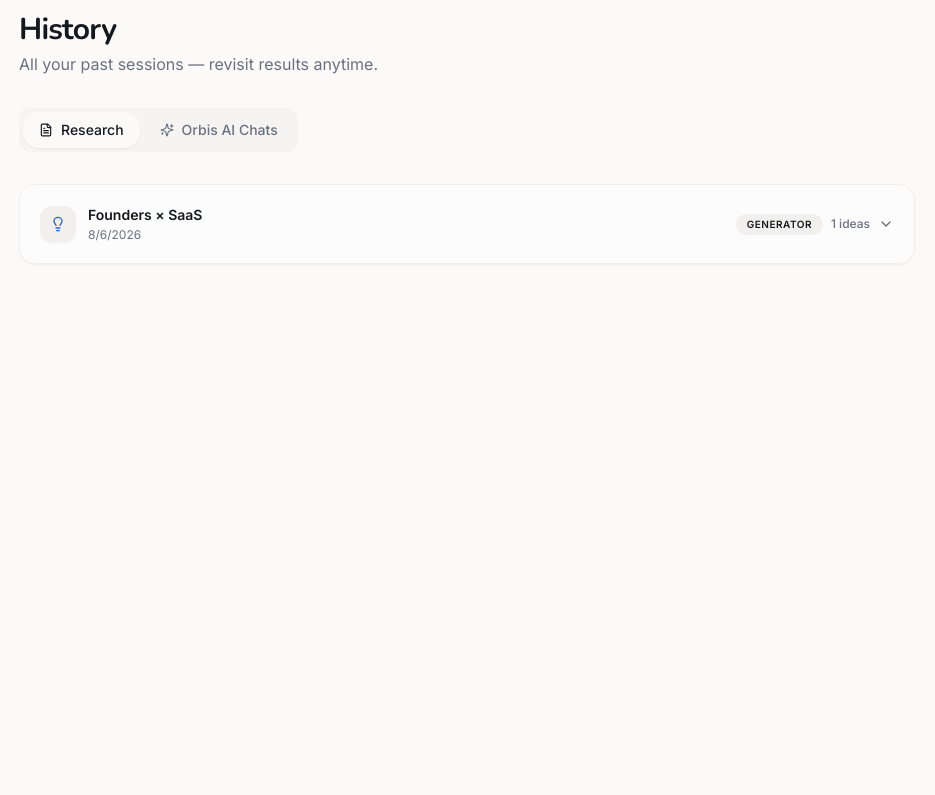
Test: Reports history idea_saved analytics › emits history_generator after successful save
The width and height of the screenshot is (935, 795).
Later steps or results of the test are not shown.
Click the button "Founders × SaaS 8/6/2026 Generator 1 ideas" at coordinates (58, 224), box [20,185,914,263]
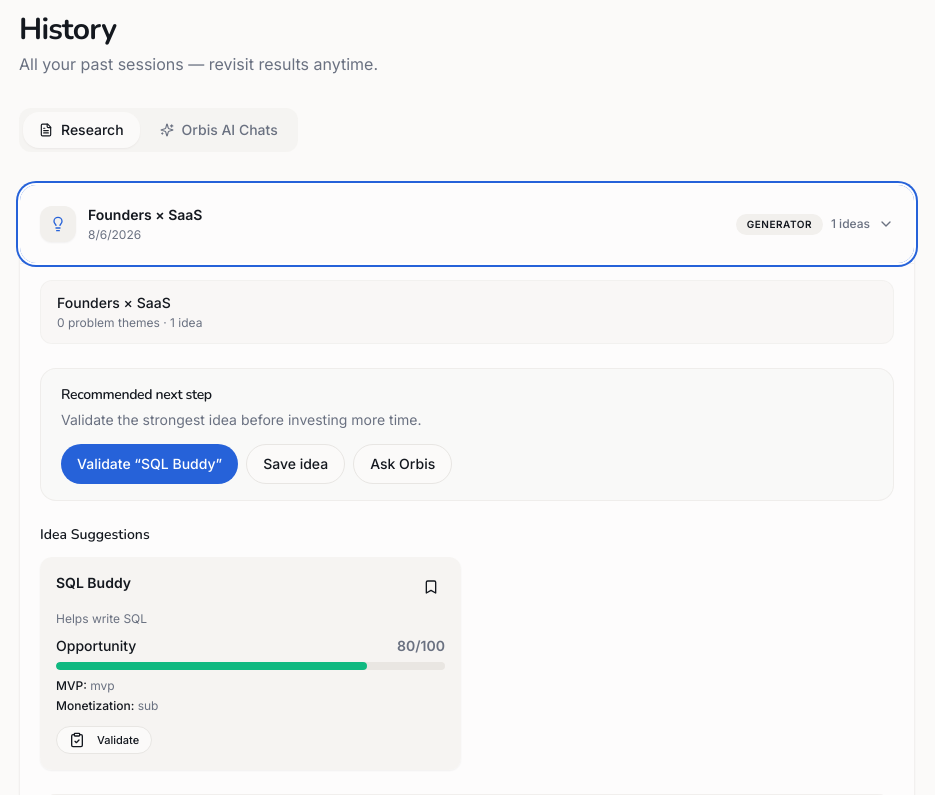
Expected: the text "SQL Buddy" is shown, [56,573,131,593]
